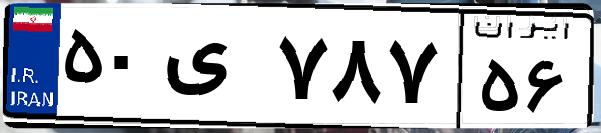0: (110, 28, 158, 98)
5: (57, 26, 110, 100), (475, 38, 525, 113)
6: (525, 38, 570, 115)
7: (270, 28, 330, 110), (385, 28, 445, 110)
8: (330, 28, 385, 110)
ی: (158, 20, 270, 120)
